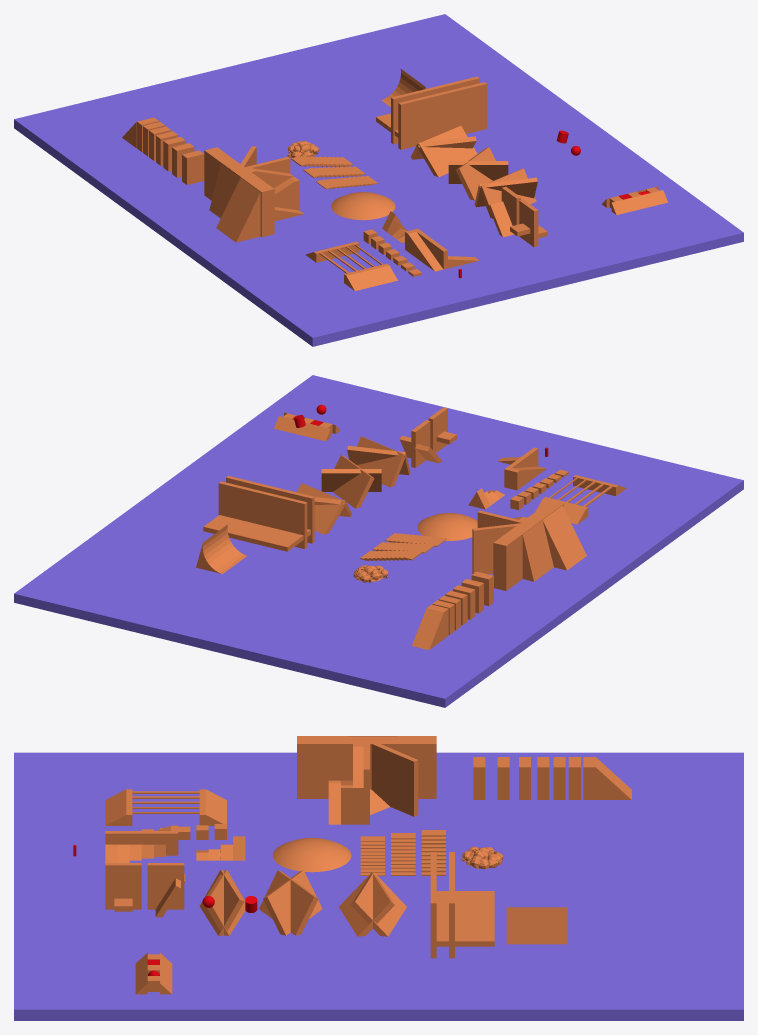
3 renders of one model, top to bottom at view 1: azimuth 30°, elevation 25°; view 2: azimuth 150°, elevation 25°; view 3: azimuth 270°, elevation 25°, orthographic. The views are drawn at different scales.
Visible parts, largest first — view 1: floor--col, wall6-col, slope_fall_60-col, ik_tester-col, wall3-col, wall7b-col, wall6b-col, slope_30.002-col, wall7e-col, slope_fall_75-col, wall2-col, wall2b-col (+11 smaller); view 2: floor--col, wall6b-col, wall6c-col, wall7e-col, slope_fall_60-col, slope_fall_75-col, ramp-col, ik_tester-col, wall7f-col, wall2b-col, wall3b-col, wall_1b-col (+9 smaller); view 3: floor--col, wall7b-col, wall6c-col, wall7f-col, ramp-col, ik_tester-col, wall7e-col, wall-col, wall4-col, wall2-col, wall3b-col, wall2b-col (+26 smaller).
Part boxes in pixels (bbox=[...]): floor--col: bbox=[14, 14, 743, 346]; wall6-col: bbox=[398, 82, 487, 149]; slope_fall_60-col: bbox=[216, 178, 260, 242]; ik_tester-col: bbox=[331, 192, 395, 220]; wall3-col: bbox=[416, 126, 477, 177]; wall7b-col: bbox=[231, 167, 274, 237]; wall6b-col: bbox=[391, 76, 479, 144]; slope_30.002-col: bbox=[344, 263, 397, 290]; wall7e-col: bbox=[204, 147, 244, 200]; slope_fall_75-col: bbox=[209, 163, 240, 218]; wall2-col: bbox=[455, 147, 495, 200]; wall2b-col: bbox=[448, 161, 508, 183]; floor--col: bbox=[14, 375, 743, 707]; wall6b-col: bbox=[218, 481, 307, 549]; wall6c-col: bbox=[203, 515, 310, 551]; wall7e-col: bbox=[493, 521, 533, 590]; slope_fall_60-col: bbox=[542, 505, 586, 570]; slope_fall_75-col: bbox=[522, 520, 553, 581]; ramp-col: bbox=[196, 524, 246, 573]; ik_tester-col: bbox=[417, 513, 477, 540]; wall7f-col: bbox=[472, 523, 527, 574]; wall2b-col: bbox=[333, 455, 374, 508]; wall3b-col: bbox=[296, 483, 346, 534]; wall_1b-col: bbox=[357, 436, 405, 487]; floor--col: bbox=[14, 752, 743, 1020]; wall7b-col: bbox=[297, 736, 369, 798]; wall6c-col: bbox=[436, 891, 494, 946]; wall7f-col: bbox=[366, 739, 418, 816]; ramp-col: bbox=[506, 907, 567, 944]; ik_tester-col: bbox=[272, 838, 351, 872]; wall7e-col: bbox=[364, 736, 436, 798]; wall-col: bbox=[105, 863, 141, 909]; wall4-col: bbox=[147, 863, 184, 909]; wall2-col: bbox=[259, 870, 318, 935]; wall3b-col: bbox=[351, 872, 406, 936]; wall2b-col: bbox=[263, 870, 322, 935].
Bounding box in the file's own units: 100 × 14.5 × 120.
